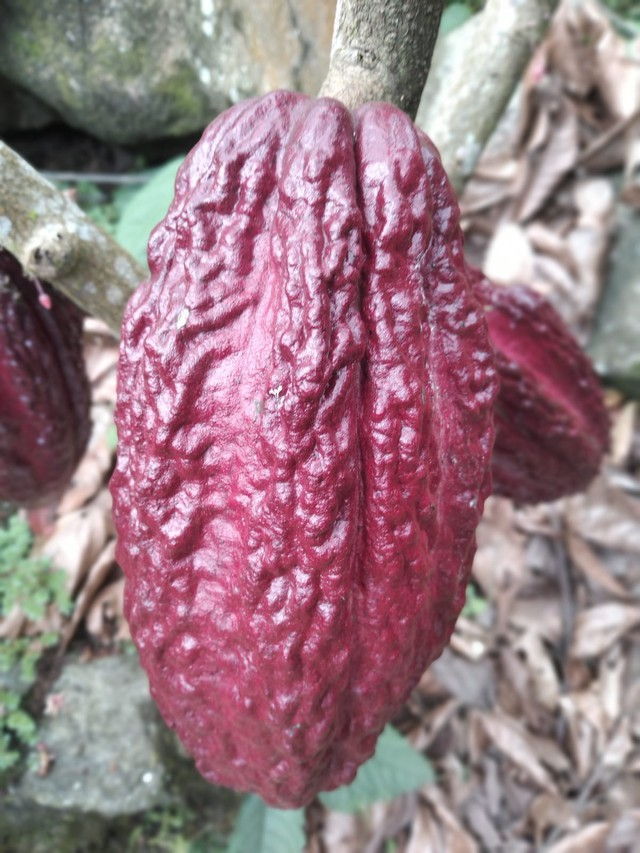Health: (61, 62, 516, 830)
